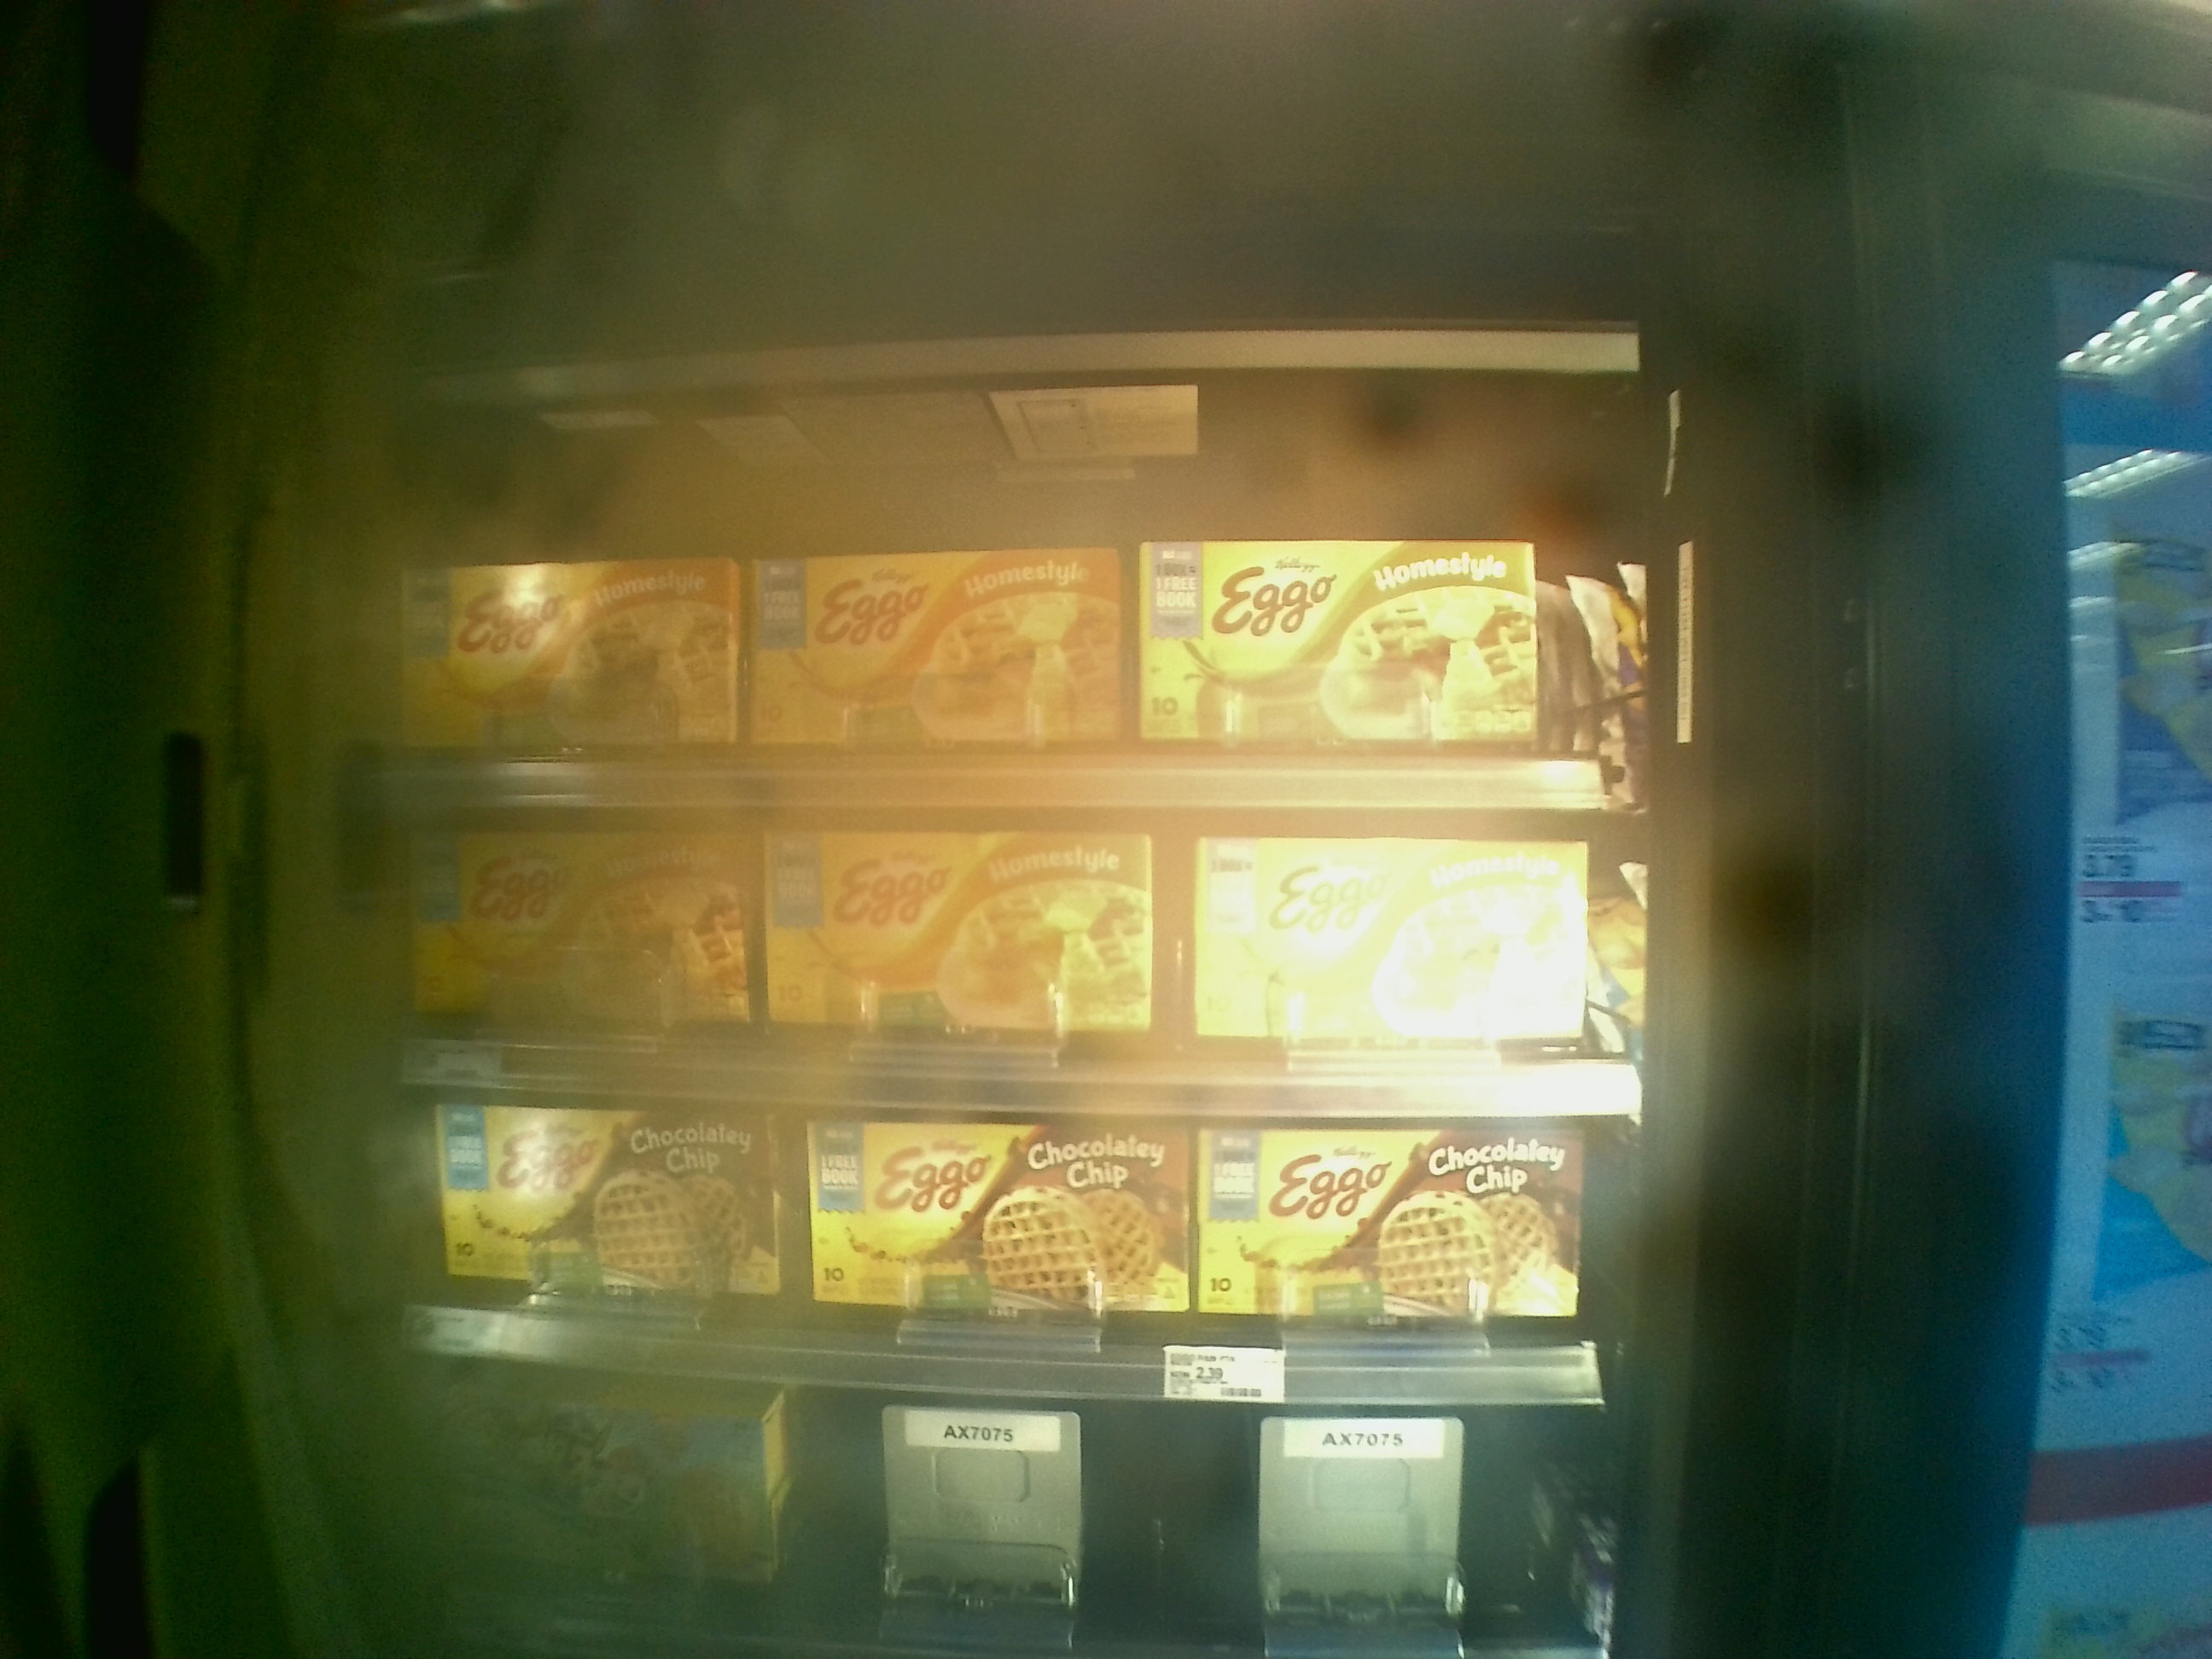shelf: (392, 329, 1646, 812), (401, 1065, 1635, 1429)
